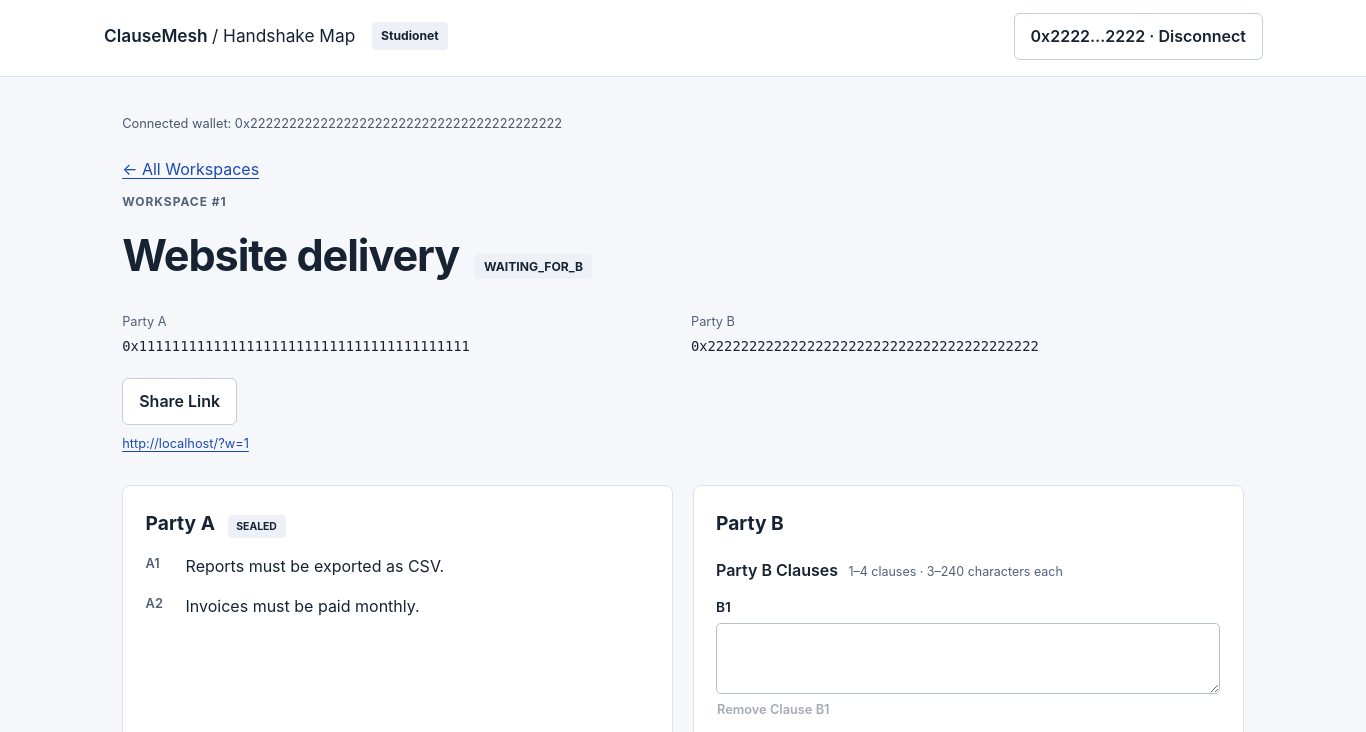
Scenario: F03/F04/F05 Create and frozen permissions › only Party B seals, then response becomes read-only
Type "Reports must be exported." into the text box labelled "B1".
click(968, 658); type("Reports must be exported.")  # box x1=716 y1=623 x2=1220 y2=694
(page scrolled)
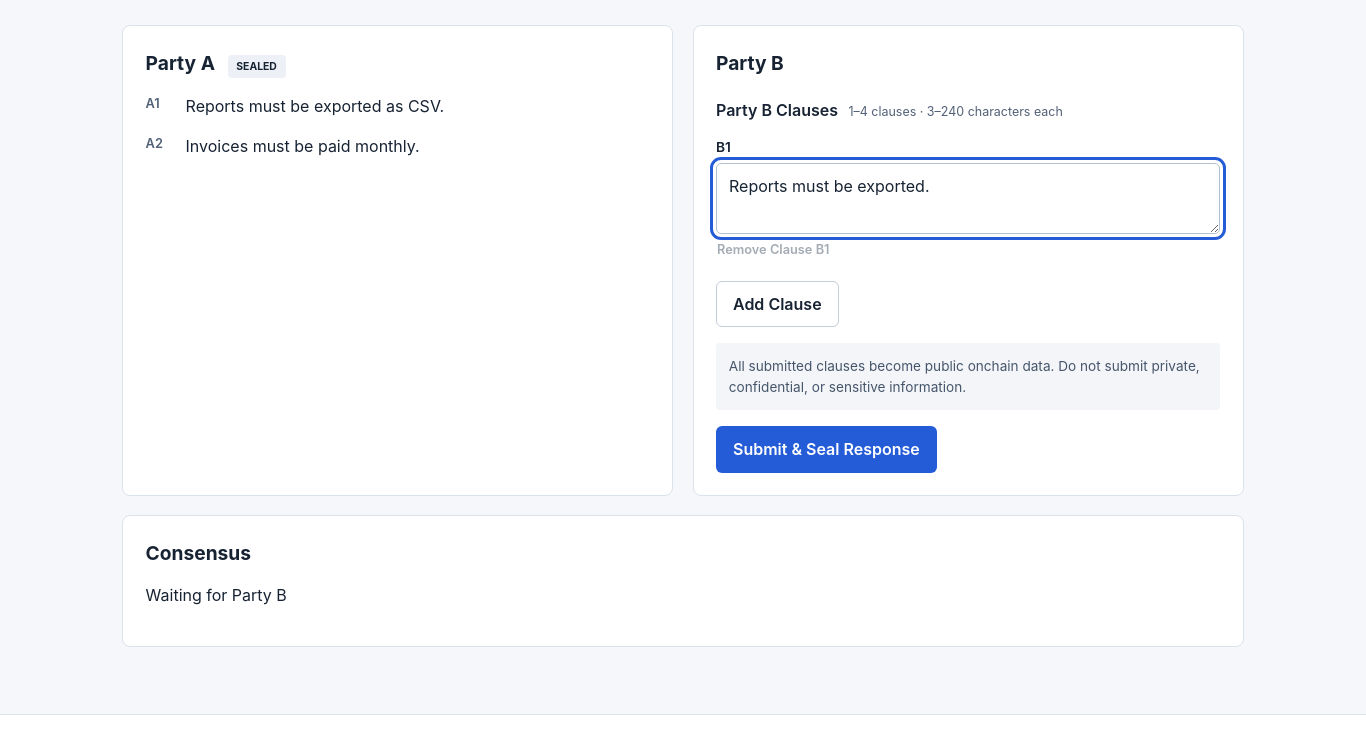
Click the button "Submit & Seal Response".
click(826, 449)  # box x1=716 y1=426 x2=937 y2=473
(page scrolled)
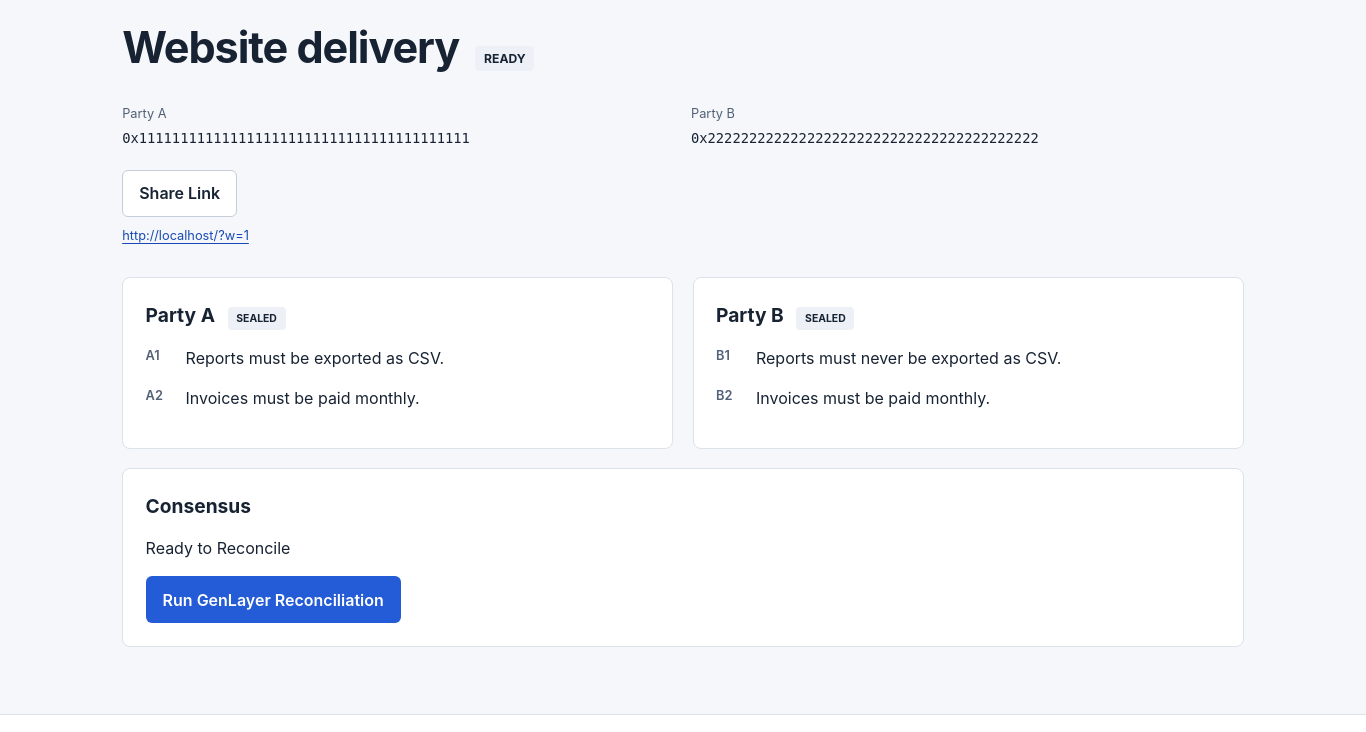
Now the heading "Party B SEALED" is shown, box x1=716 y1=303 x2=854 y2=330
